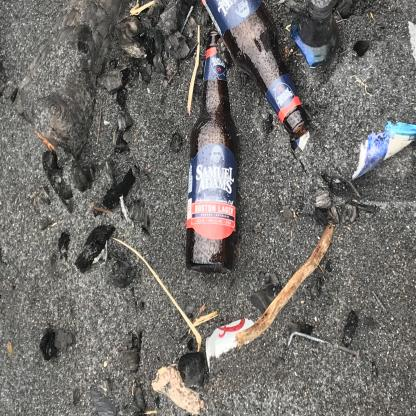trash: (104, 232, 294, 327), (204, 253, 312, 416), (25, 261, 78, 381)
